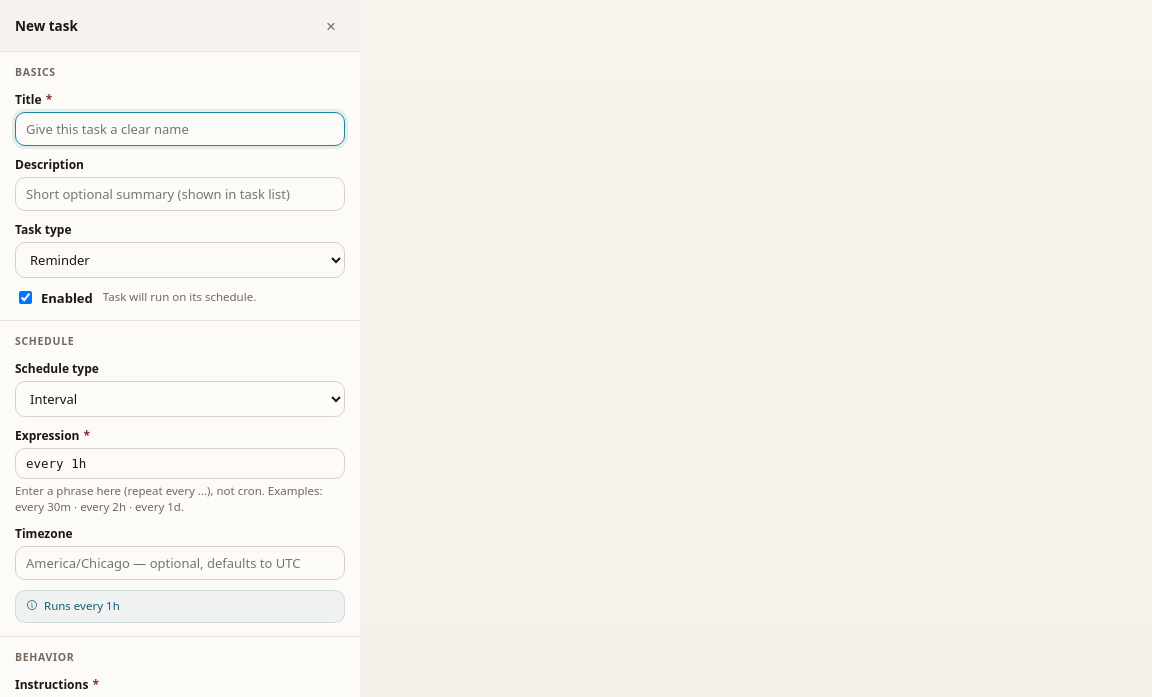
Test: Schedule summary preview › interval preview includes timezone when timezone is filled in
Type "every 1d" into the field labelled "Expression *" at (180, 464), box [15,448,345,479]
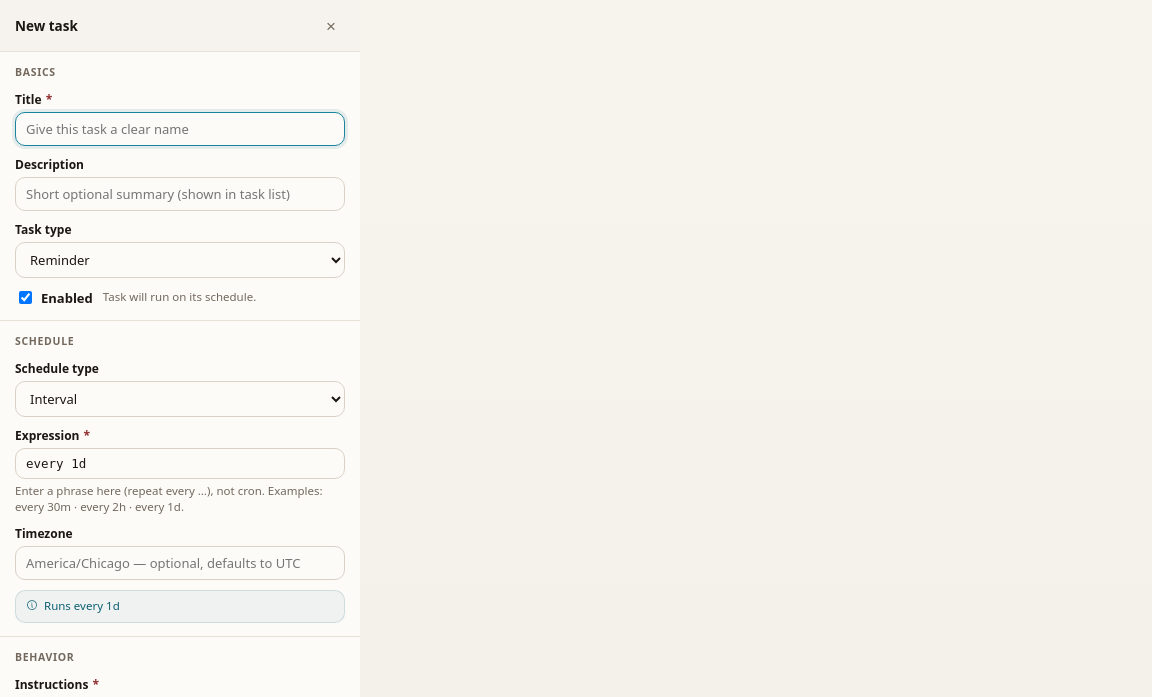
Type "America/Chicago" into the field labelled "Timezone" at (180, 563), box [15,546,345,580]
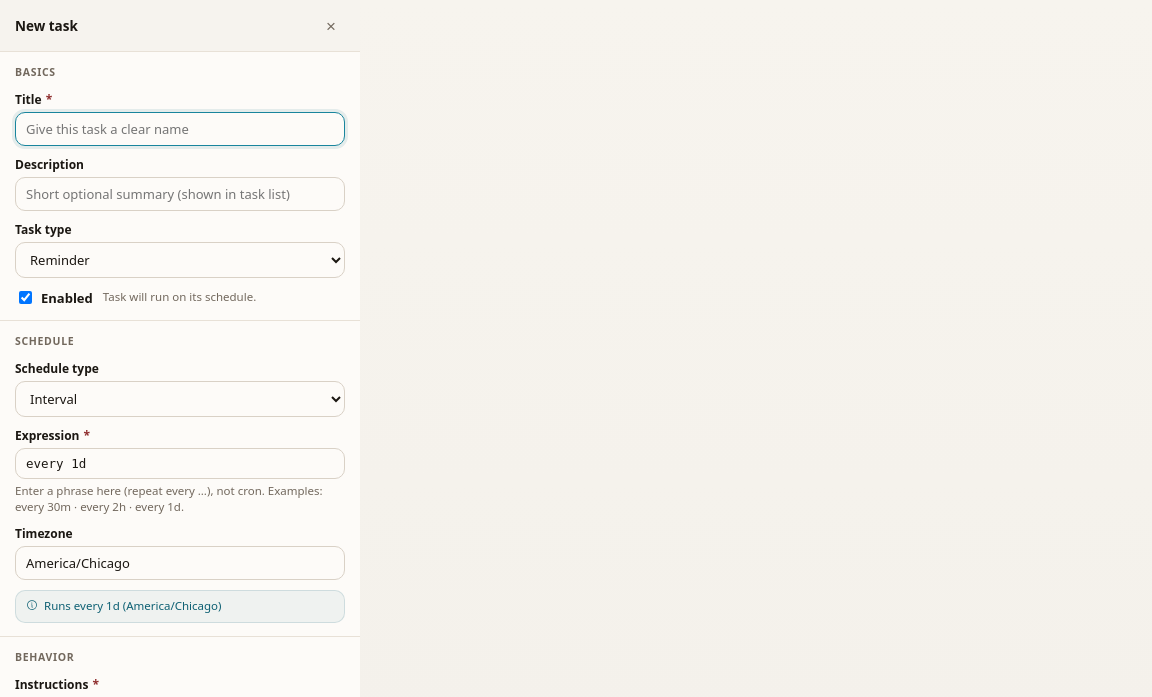
Result: the message shows "America/Chicago" at [44,598,222,613]
